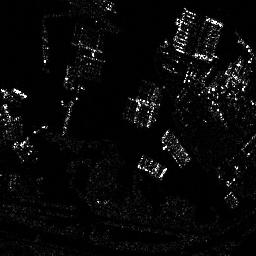ship: (161, 128, 192, 168), (135, 153, 168, 180)
